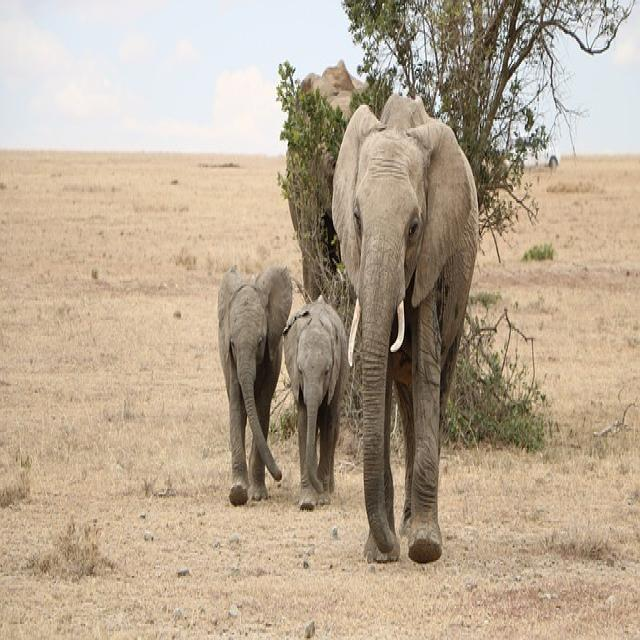FIL: (331, 103, 468, 563), (212, 262, 290, 510), (285, 312, 344, 506)
